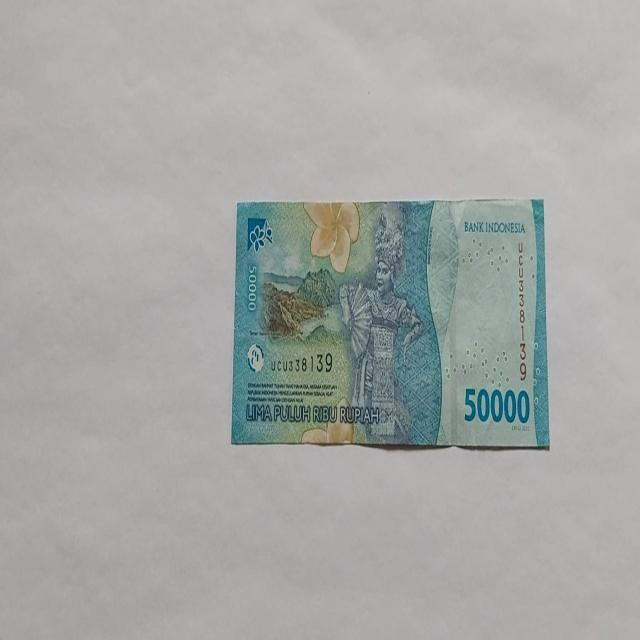lima puluh ribu rupiah: (230, 197, 549, 450), (338, 212, 424, 444)
